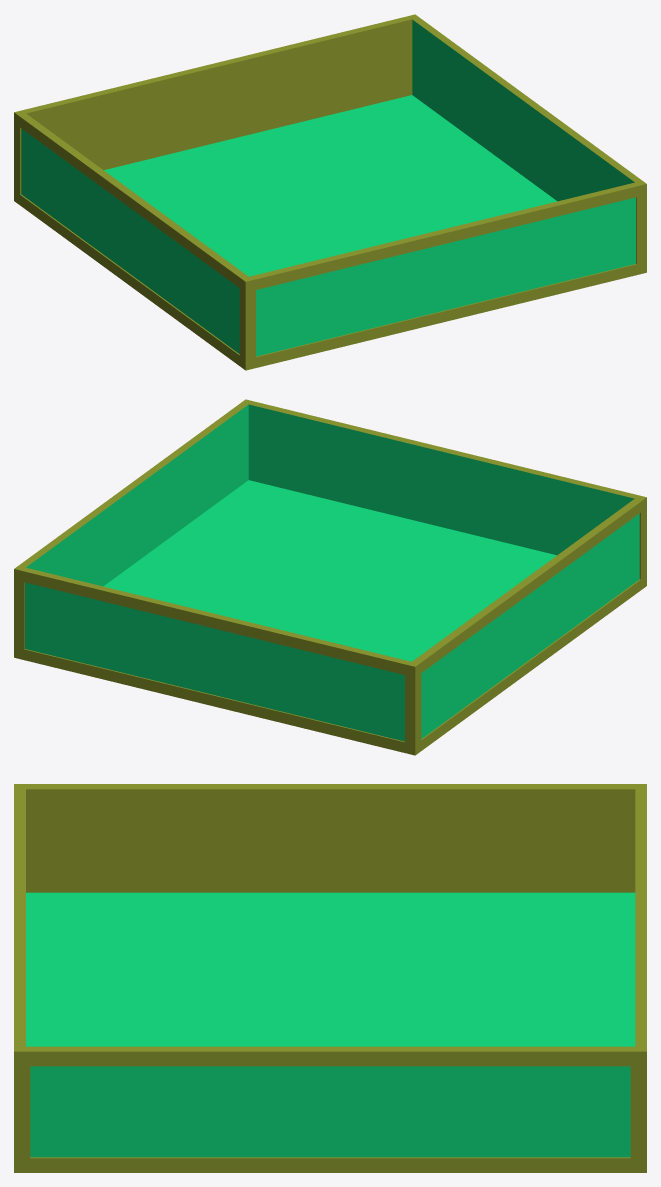
File: 2048Plate.fbx
3 renders of one model, top to bottom at view 1: azimuth 30°, elevation 25°; view 2: azimuth 150°, elevation 25°; view 3: azimuth 270°, elevation 25°, orthographic. The views are drawn at different scales.
Parts seen in each view (by area): view 1: Plate.001; view 2: Plate.001; view 3: Plate.001.
Part boxes in pixels (box(x1,y1,x2,y2)): Plate.001: box(14, 14, 646, 370); Plate.001: box(14, 399, 646, 755); Plate.001: box(14, 784, 646, 1172).
Size of the model in its own units: 836 by 177 by 836.
